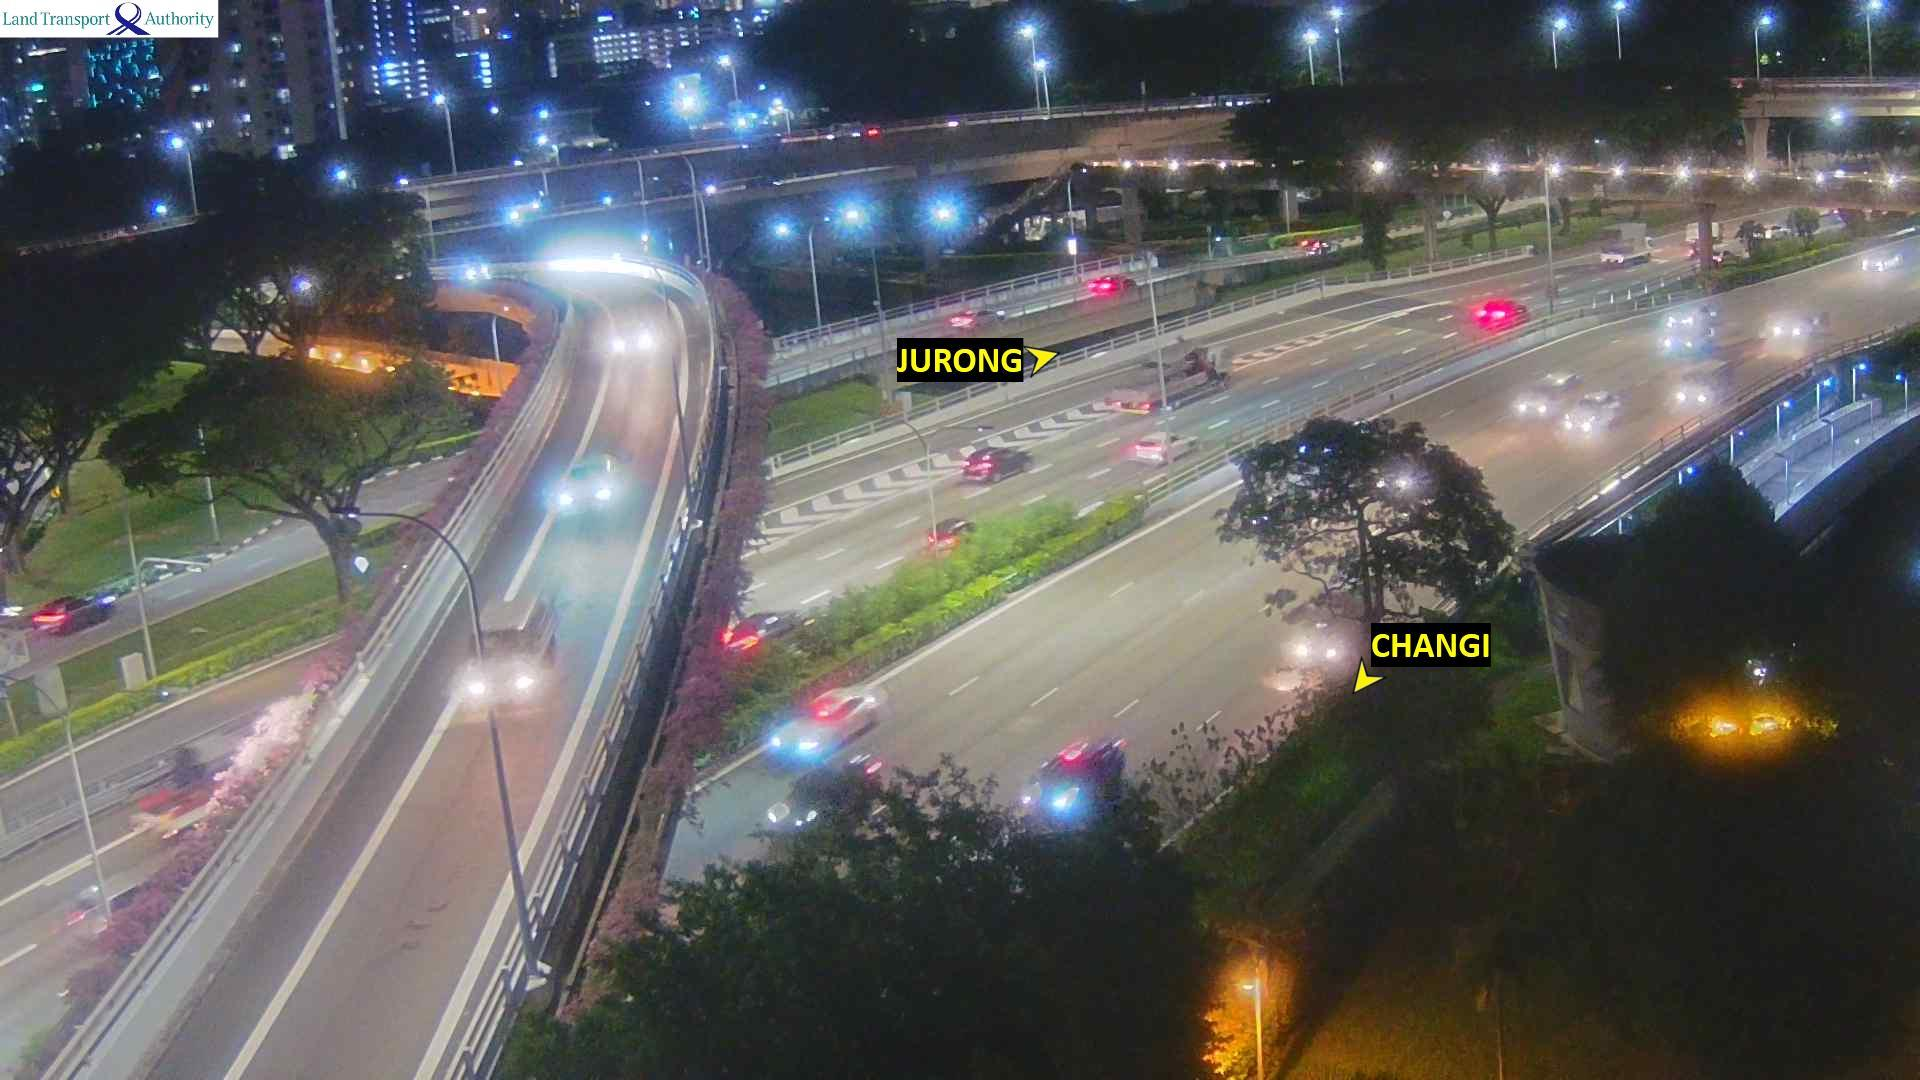cars: (459, 589, 559, 709), (1019, 735, 1127, 832), (762, 750, 885, 836), (767, 684, 880, 764), (551, 450, 624, 516), (720, 607, 812, 655), (65, 877, 144, 928), (1665, 359, 1739, 413), (29, 589, 113, 636), (1510, 371, 1581, 419), (1284, 617, 1349, 670), (1559, 388, 1625, 436), (1658, 303, 1717, 356), (1373, 454, 1433, 502), (1122, 430, 1196, 465), (961, 444, 1030, 481), (429, 249, 492, 284), (1760, 309, 1824, 342), (605, 319, 657, 357), (1470, 295, 1527, 330), (924, 516, 975, 549), (951, 309, 1007, 330), (827, 120, 884, 140), (1087, 272, 1134, 294), (1687, 241, 1727, 266), (1859, 249, 1902, 272), (1687, 218, 1725, 240), (1751, 220, 1789, 243)
trucks: (1093, 342, 1234, 410), (1594, 216, 1655, 273)
